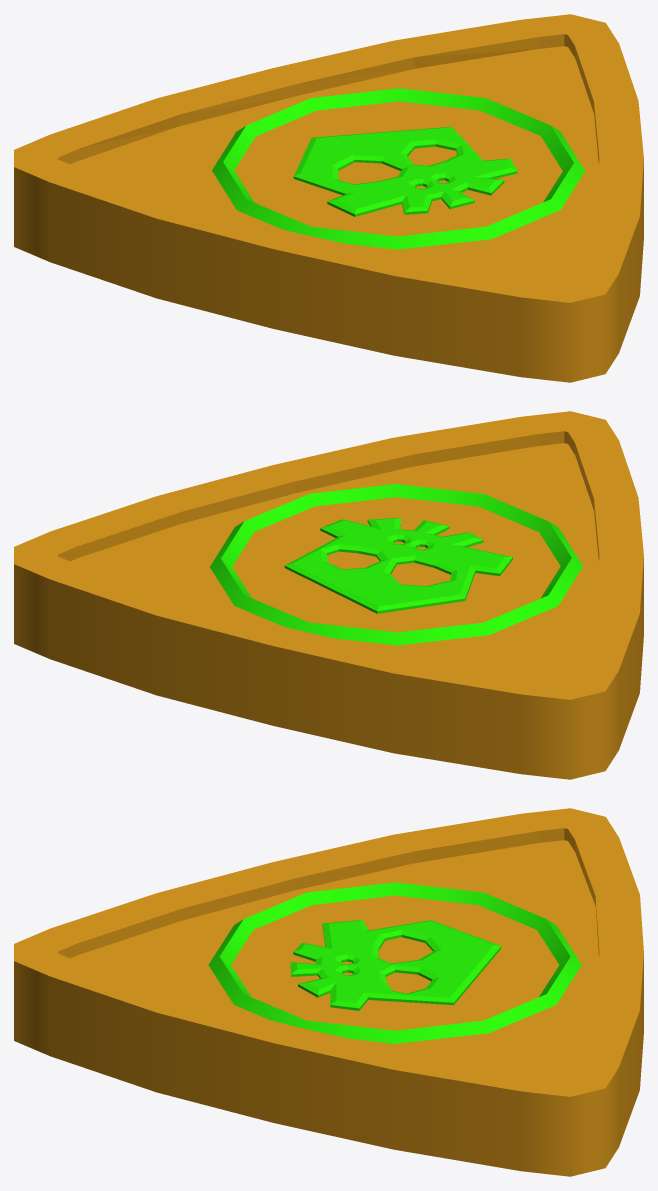
File: Powerup_Imprison.FBX
3 views of the same model, one above another, from view 1: azimuth 30°, elevation 25°; view 2: azimuth 150°, elevation 25°; view 3: azimuth 270°, elevation 25° (orthographic).
Visible parts, largest first — view 1: NGon001; view 2: NGon001; view 3: NGon001.
Part boxes in pixels (x1,y1,x2,y2): NGon001: (14, 14, 643, 382); NGon001: (14, 411, 643, 779); NGon001: (14, 808, 643, 1176).
Bounding box in the file's own units: 155 × 20 × 143.
